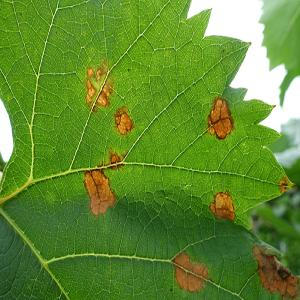Folha: (0, 0, 297, 298)
Fungo: (251, 244, 299, 298), (171, 250, 209, 294), (84, 59, 114, 113), (83, 168, 115, 218), (207, 95, 234, 140), (208, 189, 236, 222), (114, 105, 133, 135), (96, 79, 114, 108), (85, 77, 97, 112), (109, 150, 121, 170), (96, 60, 107, 80), (278, 176, 288, 194), (96, 91, 106, 107), (102, 81, 110, 97), (96, 67, 102, 81), (87, 66, 93, 78)
